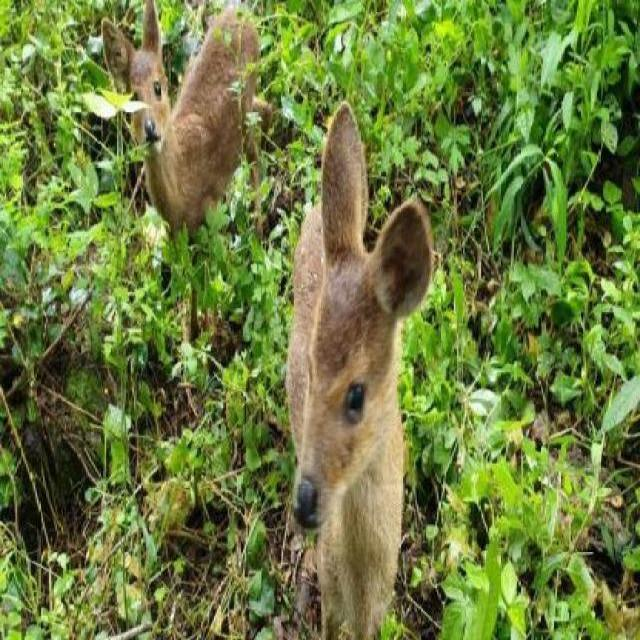deer: (282, 93, 433, 639), (90, 13, 274, 248)
